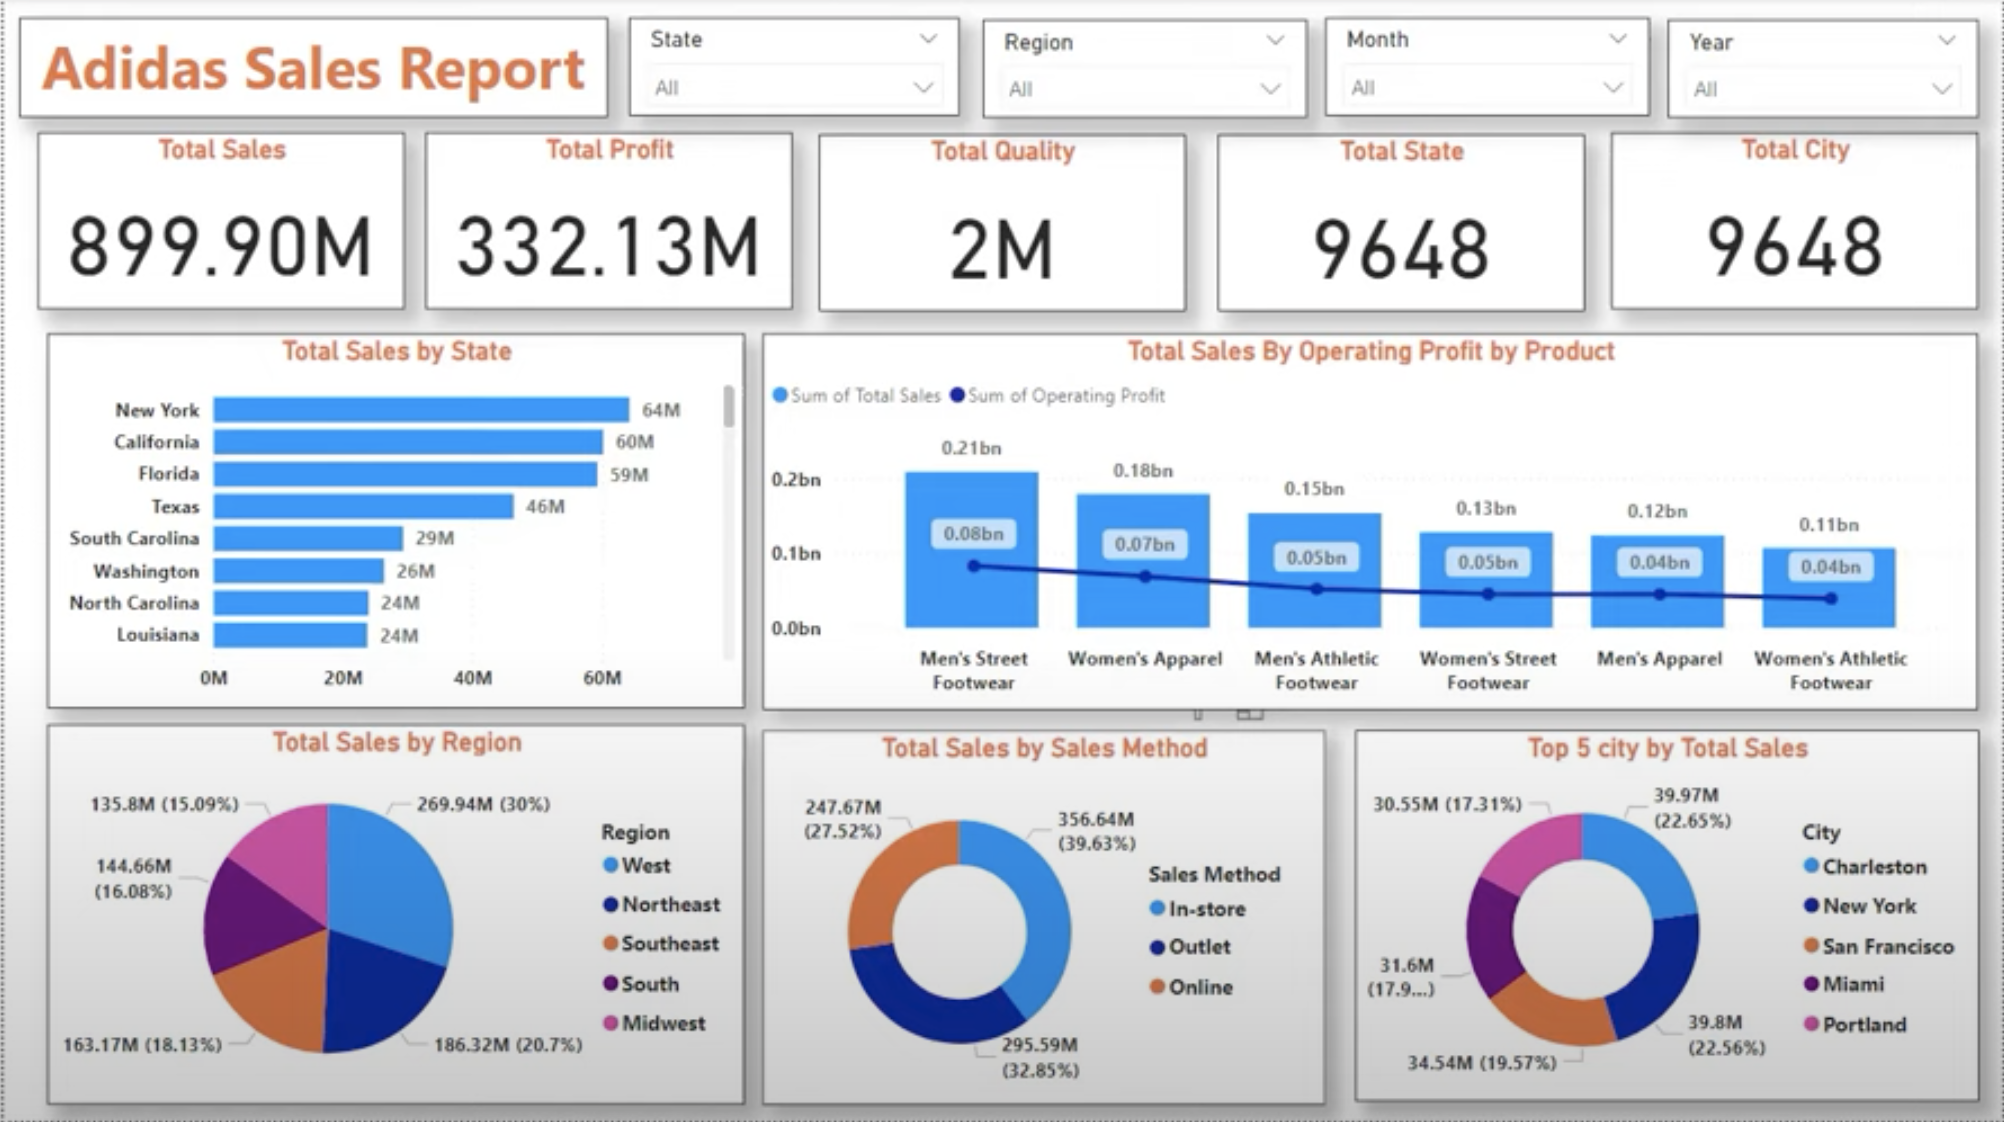

What the dashboard file says about the page in this screenshot:
{"tool":"powerbi","page":{"name":"Page 1","canvas":[1280,720],"ordinal":0},"visuals":[{"type":"textbox","box":[5.2,0,345.5,62.2],"z":0},{"type":"slicer","fields":{"Values":["Adidas US Sales Datasets xlsx - Data Sales Adidas.State"]},"box":[370.4,5.9,212.7,64.1],"z":1000},{"type":"slicer","fields":{"Values":["Adidas US Sales Datasets xlsx - Data Sales Adidas.Region"]},"box":[594.8,5.9,212.7,64.1],"z":2000},{"type":"slicer","fields":{"Values":["Adidas US Sales Datasets xlsx - Data Sales Adidas.Invoice Date.Variation.Date Hierarchy.Month"]},"box":[822.6,5.9,212.7,64.1],"z":3000},{"type":"slicer","fields":{"Values":["Adidas US Sales Datasets xlsx - Data Sales Adidas.Invoice Date.Variation.Date Hierarchy.Year"]},"box":[1052.9,5.9,212.7,64.1],"z":4000},{"type":"card","title":"Total Sales","fields":{"Values":["Sum(Adidas US Sales Datasets xlsx - Data Sales Adidas.Total Sales)"]},"box":[11.1,79.2,240.2,111.2],"z":5000},{"type":"card","title":"Total Profit","fields":{"Values":["Sum(Adidas US Sales Datasets xlsx - Data Sales Adidas.Operating Profit)"]},"box":[264.4,79.2,240.2,111.2],"z":6000},{"type":"card","title":"Total Quality","fields":{"Values":["Sum(Adidas US Sales Datasets xlsx - Data Sales Adidas.Units Sold)"]},"box":[519.6,79.2,240.2,111.2],"z":7000},{"type":"card","title":"Total States","fields":{"Values":["CountNonNull(Adidas US Sales Datasets xlsx - Data Sales Adidas.State)"]},"box":[773.5,79.2,240.2,111.2],"z":7001},{"type":"card","title":"Total City","fields":{"Values":["CountNonNull(Adidas US Sales Datasets xlsx - Data Sales Adidas.City)"]},"box":[1030,79.2,240.2,111.2],"z":7002},{"type":"barChart","title":"Total Sales by State","fields":{"Y":["Sum(Adidas US Sales Datasets xlsx - Data Sales Adidas.Total Sales)"],"Category":["Adidas US Sales Datasets xlsx - Data Sales Adidas.State"]},"box":[11.1,202.9,349.4,261.8],"z":7003},{"type":"lineStackedColumnComboChart","title":"Total Sales By Operating Profit by Product","fields":{"Category":["Adidas US Sales Datasets xlsx - Data Sales Adidas.Product"],"Y":["Sum(Adidas US Sales Datasets xlsx - Data Sales Adidas.Total Sales)"],"Y2":["Sum(Adidas US Sales Datasets xlsx - Data Sales Adidas.Operating Profit)"]},"box":[390.7,202.9,873.6,261.8],"z":7004},{"type":"pieChart","title":"Total Sales by Region","fields":{"Y":["Sum(Adidas US Sales Datasets xlsx - Data Sales Adidas.Total Sales)"],"Category":["Adidas US Sales Datasets xlsx - Data Sales Adidas.Region"]},"box":[11.1,475.7,402.5,230.3],"z":7005},{"type":"donutChart","title":"Total Sales by Sales Method","fields":{"Category":["Adidas US Sales Datasets xlsx - Data Sales Adidas.Sales Method"],"Y":["Sum(Adidas US Sales Datasets xlsx - Data Sales Adidas.Total Sales)"]},"box":[438.4,475.7,402.5,230.3],"z":7006},{"type":"donutChart","title":"Total 5 Sales by City","fields":{"Category":["Adidas US Sales Datasets xlsx - Data Sales Adidas.City"],"Y":["Sum(Adidas US Sales Datasets xlsx - Data Sales Adidas.Total Sales)"]},"box":[863.1,475.7,402.5,230.3],"z":7007}]}

Visuals, with their boxes in screenshot pixels (x1, y1, x2, y2), scaled from the page's 1280x720 canvas onto the 2004x1122 screenshot:
textbox: bbox=[8, 0, 549, 97]
slicer - Adidas US Sales Datasets xlsx - Data Sales Adidas.State: bbox=[580, 9, 913, 109]
slicer - Adidas US Sales Datasets xlsx - Data Sales Adidas.Region: bbox=[931, 9, 1264, 109]
slicer - Adidas US Sales Datasets xlsx - Data Sales Adidas.Invoice Date.Variation.Date Hierarchy.Month: bbox=[1288, 9, 1621, 109]
slicer - Adidas US Sales Datasets xlsx - Data Sales Adidas.Invoice Date.Variation.Date Hierarchy.Year: bbox=[1648, 9, 1981, 109]
"Total Sales" card: bbox=[17, 123, 393, 297]
"Total Profit" card: bbox=[414, 123, 790, 297]
"Total Quality" card: bbox=[813, 123, 1190, 297]
"Total States" card: bbox=[1211, 123, 1587, 297]
"Total City" card: bbox=[1613, 123, 1989, 297]
"Total Sales by State" barChart: bbox=[17, 316, 564, 724]
"Total Sales By Operating Profit by Product" lineStackedColumnComboChart: bbox=[612, 316, 1979, 724]
"Total Sales by Region" pieChart: bbox=[17, 741, 648, 1100]
"Total Sales by Sales Method" donutChart: bbox=[686, 741, 1317, 1100]
"Total 5 Sales by City" donutChart: bbox=[1351, 741, 1981, 1100]
